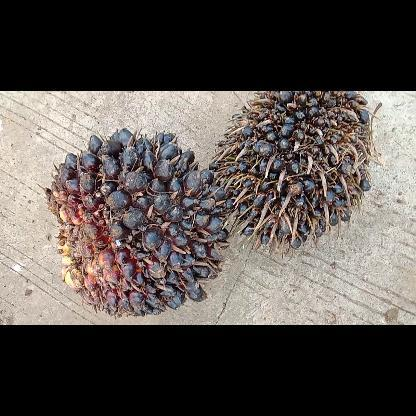TBS mentah: (40, 126, 230, 320), (209, 91, 381, 255)
